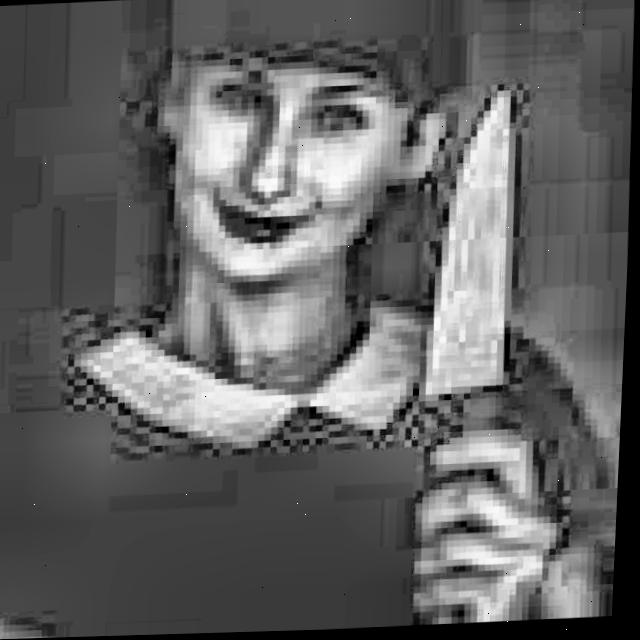pisau: (413, 75, 562, 622)
